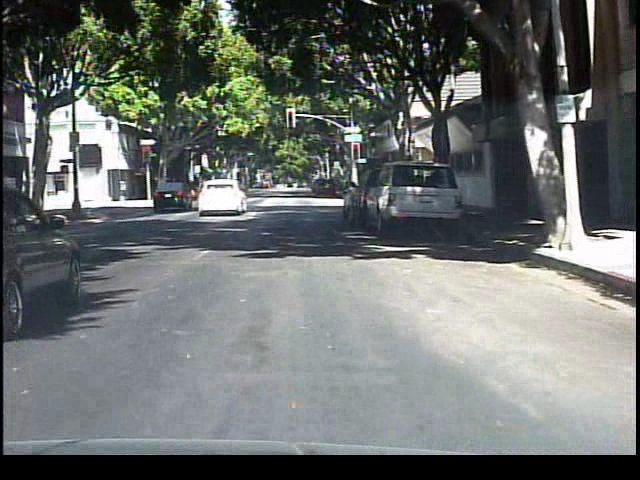person: (192, 170, 216, 215)
